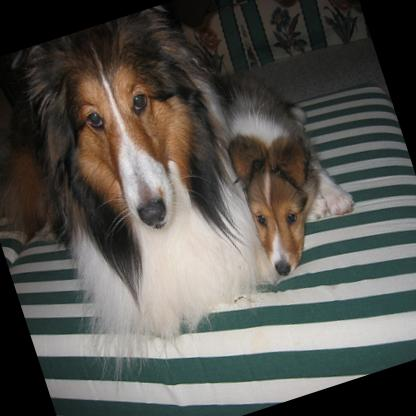Shetland_sheepdog: (1, 0, 293, 387)
